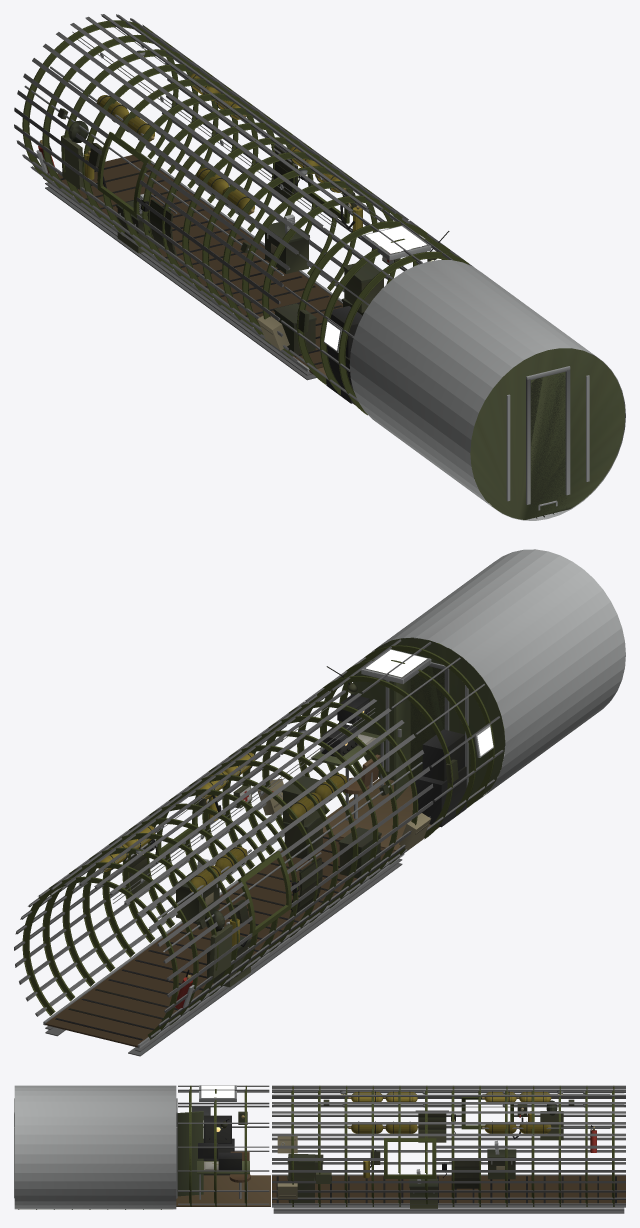
Rendered from b17_interior.glb.
The picture shows the model from 3 angles, top to bottom: view 1: azimuth 30°, elevation 25°; view 2: azimuth 150°, elevation 25°; view 3: azimuth 270°, elevation 25°; orthographic projection. The views are drawn at different scales.
Parts seen in each view (by area): view 1: kitWaist, kitBay, kitRadio; view 2: kitWaist, kitBay, kitRadio; view 3: kitWaist, kitBay, kitRadio.
Boxes of the visible parts, x1,y1,x2,y2 form: kitWaist: (14, 14, 426, 380); kitBay: (349, 260, 625, 520); kitRadio: (280, 210, 473, 415); kitWaist: (14, 690, 433, 1056); kitBay: (350, 549, 625, 802); kitRadio: (281, 638, 504, 850); kitWaist: (272, 1085, 625, 1213); kitBay: (14, 1085, 176, 1209); kitRadio: (176, 1085, 270, 1206).
Size of the model in its own units: 2.2 by 2.24 by 10.99.
